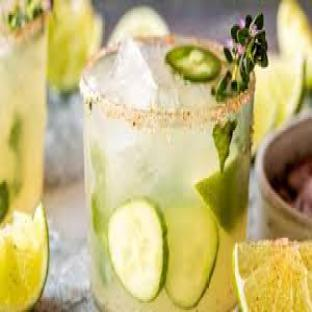Cucumber: (109, 199, 167, 300), (166, 208, 218, 308), (166, 45, 221, 81)
